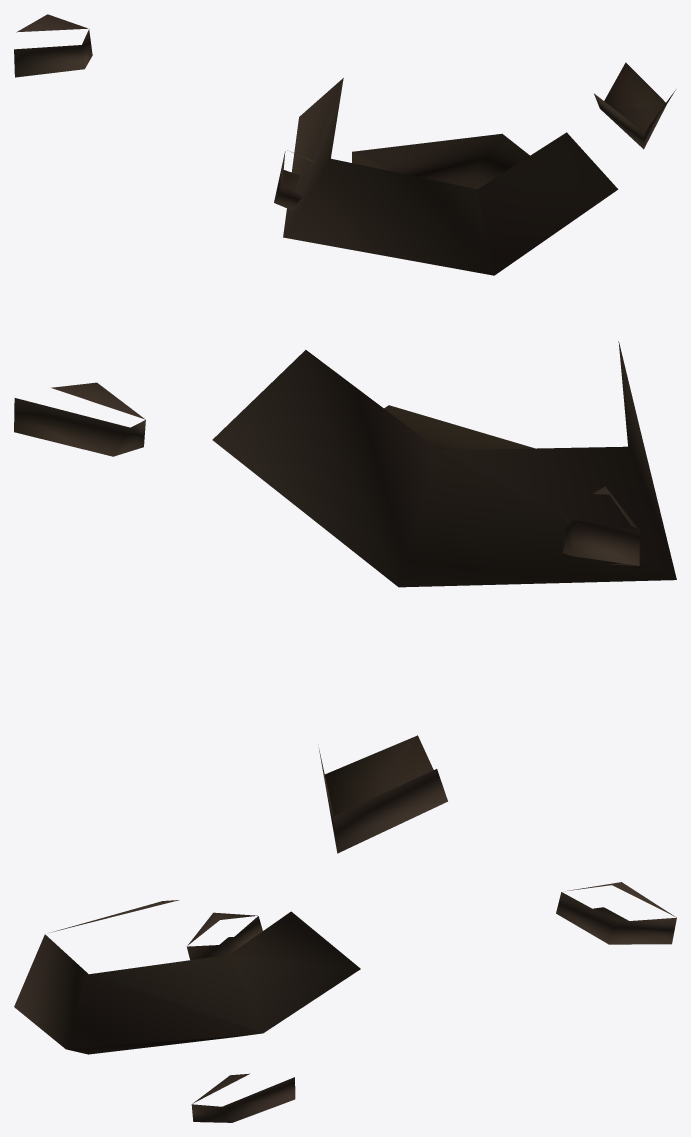
Rendered from rubble_v0.glb.
3 views of the same model, one above another, from view 1: azimuth 30°, elevation 25°; view 2: azimuth 150°, elevation 25°; view 3: azimuth 270°, elevation 25° (orthographic). The views are drawn at different scales.
Bounding box in the file's own units: 0.7838 × 0.2085 × 1.
